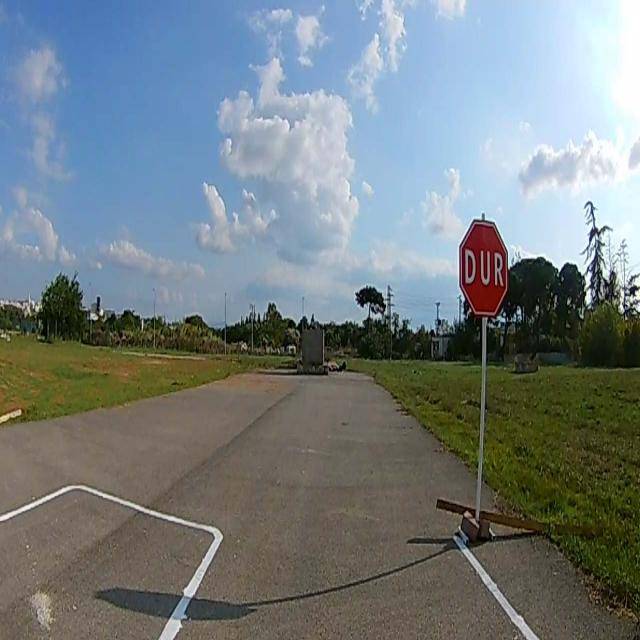dur: (460, 218, 508, 318)
